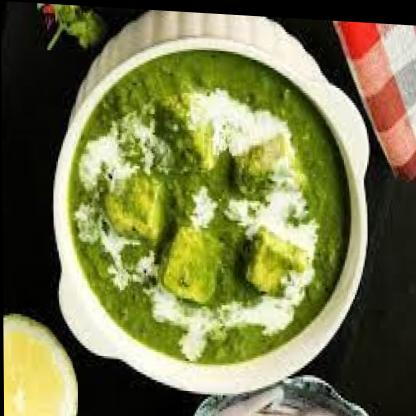palak_paneer: (66, 40, 352, 369)
